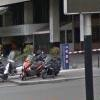Motorcycle: (17, 49, 64, 85)
